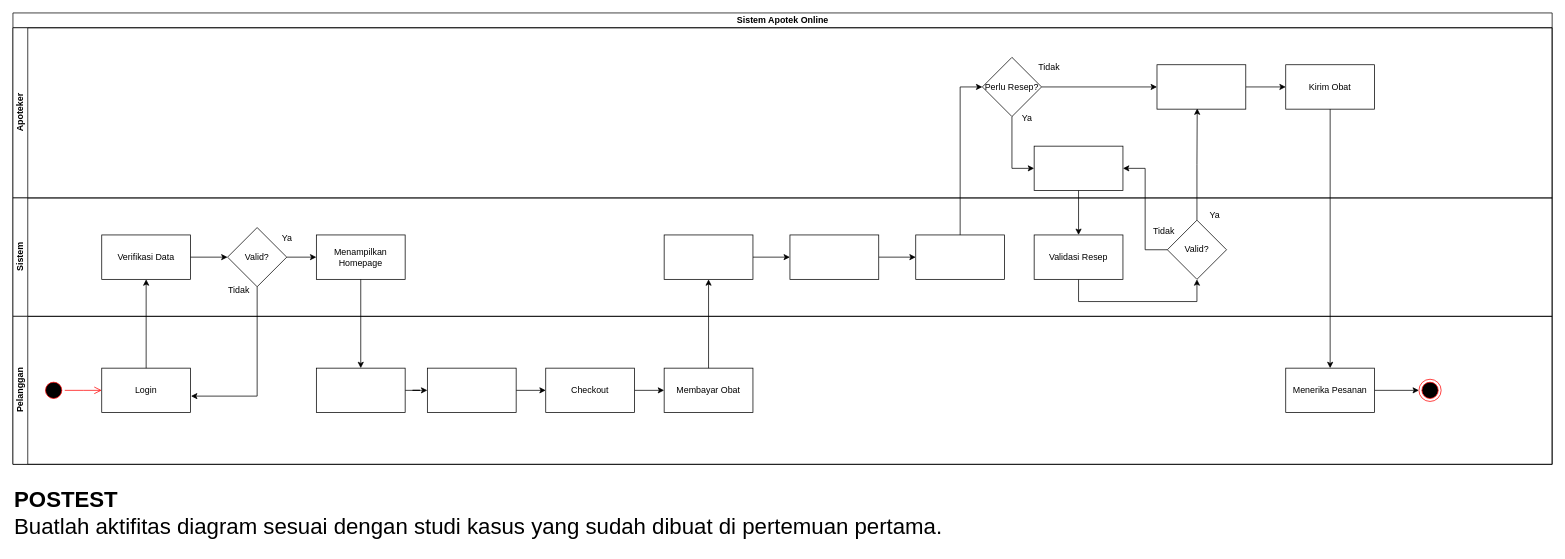
Image size: 1565x559. Some labels were removed from this diagram. Here are the shapes that lost their labels. From the top down, the centre of each, then its label:
the point at 1201,86: Menyiapkan Obat
the point at 1078,168: Membuat Resep
the point at 708,256: Verifikasi Pembayaran
the point at 834,256: Membuat Pesanan
the point at 960,256: Cek Resep
the point at 360,390: Memilih Obat
the point at 471,390: Menambah ke keranjang
